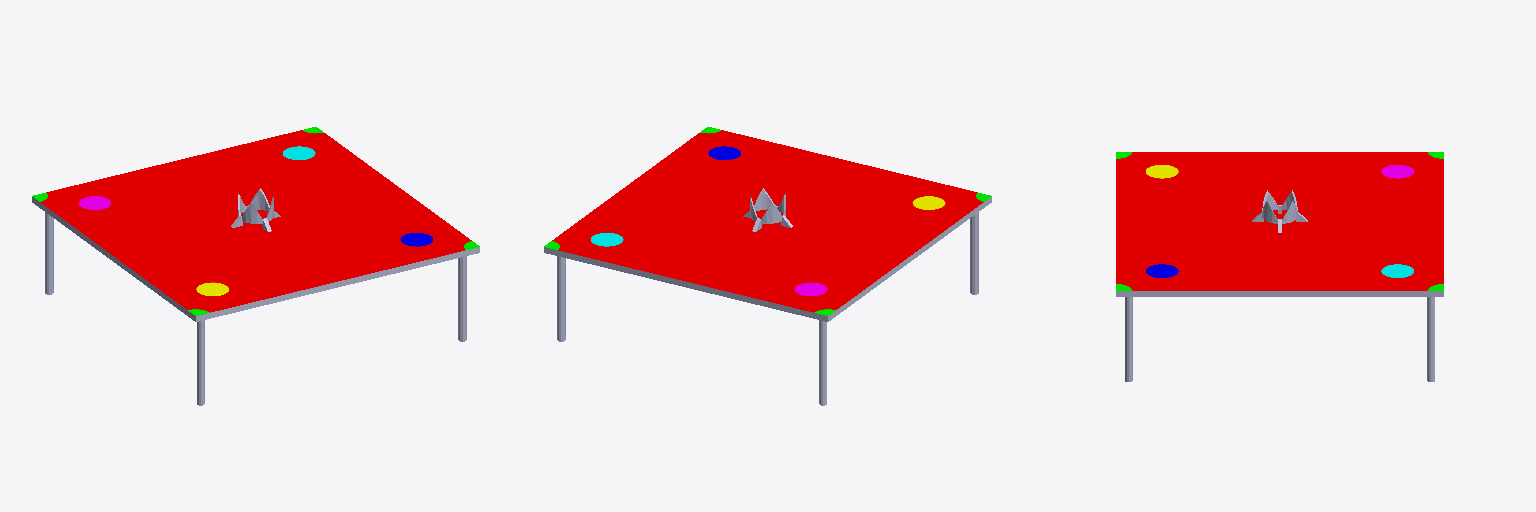
3 views of the same model, side by side, from view 1: azimuth 30°, elevation 25°; view 2: azimuth 150°, elevation 25°; view 3: azimuth 270°, elevation 25° (orthographic).
Visible parts, largest first — view 1: mesh 2 Boss-Extrude3 face, mesh 1 Platform_Support; view 2: mesh 2 Boss-Extrude3 face, mesh 1 Platform_Support; view 3: mesh 2 Boss-Extrude3 face, mesh 1 Platform_Support.
Part boxes in pixels (bbox=[...]): mesh 2 Boss-Extrude3 face: bbox=[32, 127, 479, 315]; mesh 1 Platform_Support: bbox=[32, 188, 479, 405]; mesh 2 Boss-Extrude3 face: bbox=[544, 127, 991, 315]; mesh 1 Platform_Support: bbox=[544, 188, 991, 405]; mesh 2 Boss-Extrude3 face: bbox=[1116, 152, 1443, 290]; mesh 1 Platform_Support: bbox=[1116, 190, 1443, 381].
Size of the model in its own units: 1 by 0.4077 by 1.
Materials: 2 (1 with a texture image).